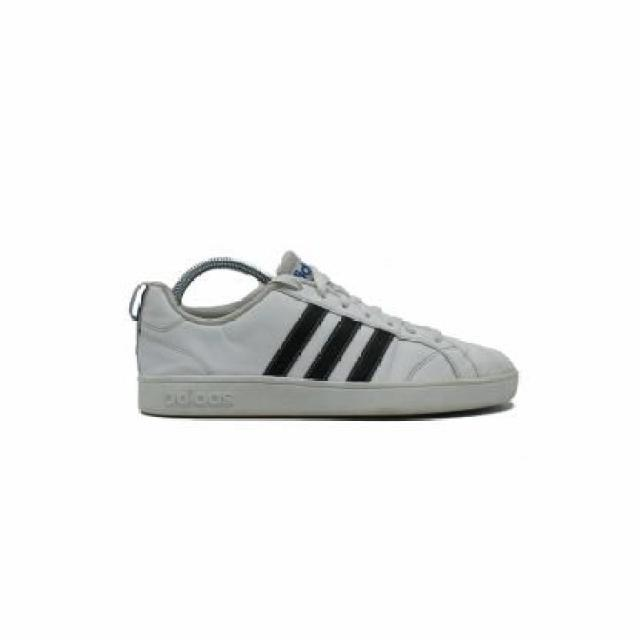Adidas: (261, 297, 397, 394)
